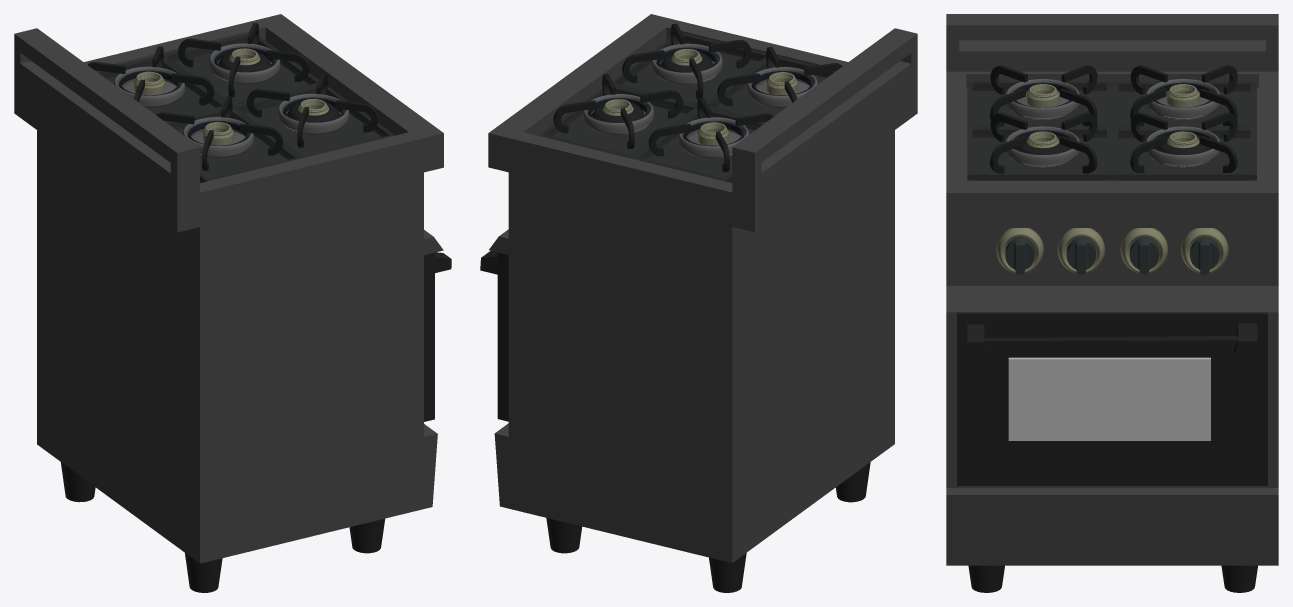
Rendered from Gasrange.fbx.
3 renders of one model, left to right at view 1: azimuth 30°, elevation 25°; view 2: azimuth 150°, elevation 25°; view 3: azimuth 270°, elevation 25°, orthographic. The views are drawn at different scales.
Visible parts, largest first — view 1: GasRange; view 2: GasRange; view 3: GasRange.
Boxes of the visible parts, x1=… form: GasRange: x1=14, y1=14, x2=451, y2=592; GasRange: x1=480, y1=14, x2=917, y2=592; GasRange: x1=946, y1=14, x2=1278, y2=592.
Size of the model in its own units: 10.53 by 16.24 by 10.43.
